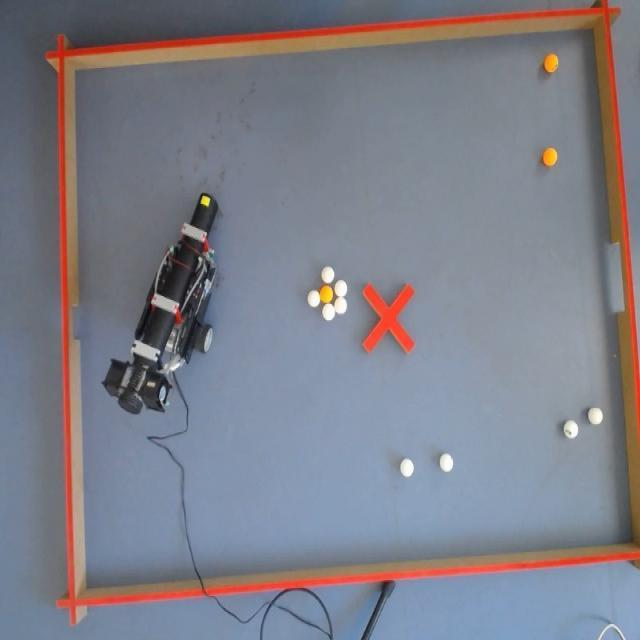orange: (544, 52, 560, 71), (543, 147, 558, 167), (320, 286, 334, 304)
robot: (102, 200, 215, 410)
white: (400, 458, 414, 478), (588, 406, 602, 425), (441, 452, 454, 472), (308, 289, 320, 309), (322, 265, 335, 283), (321, 303, 334, 321), (566, 419, 578, 437), (336, 280, 348, 298), (336, 296, 347, 314)
